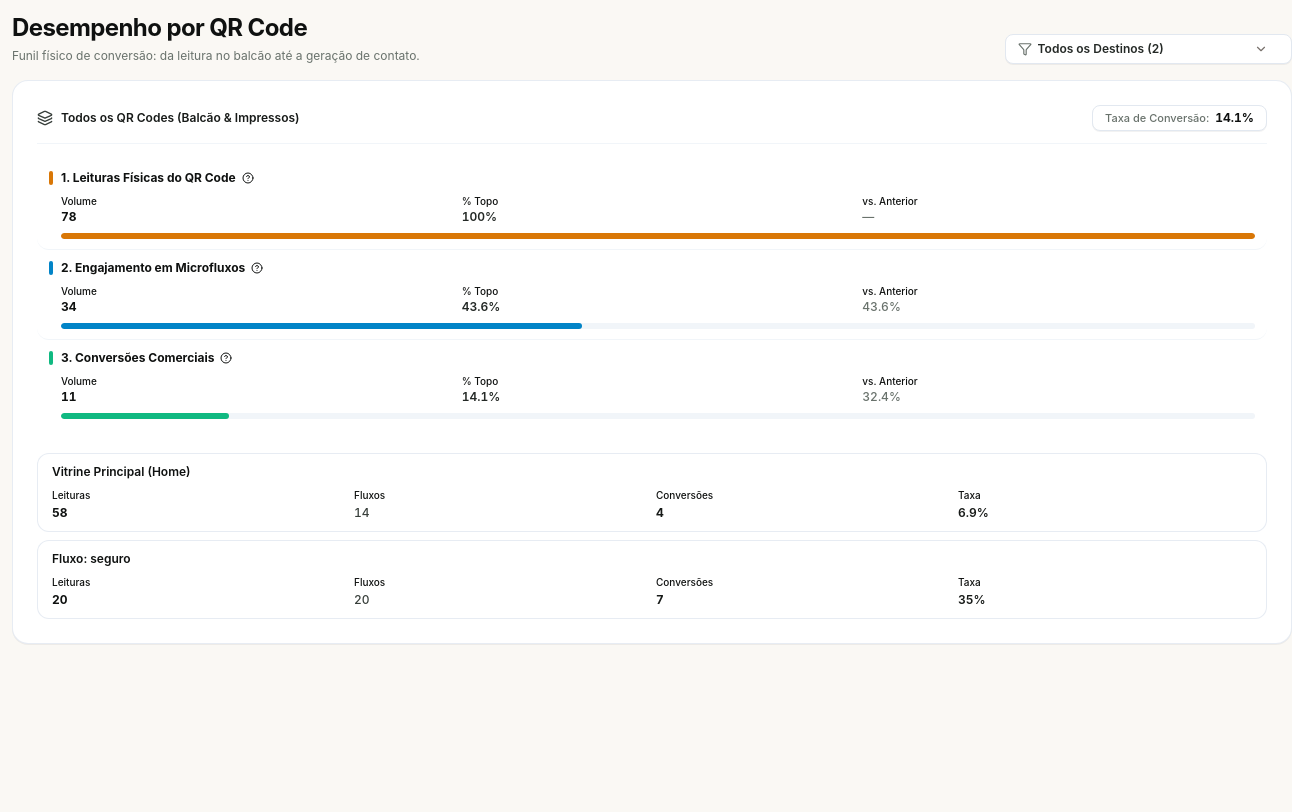
Test: FunilDesempenhoQrCodes › permite filtrar por destino específico e atualizar a visualização
This screenshot has width=1292, height=812.
Select "Fluxo: seguro (20 visitas)" in the dropdown named "Filtrar destino do QR Code". click: (1158, 49)
box: x1=1038 y1=41 x2=1279 y2=57
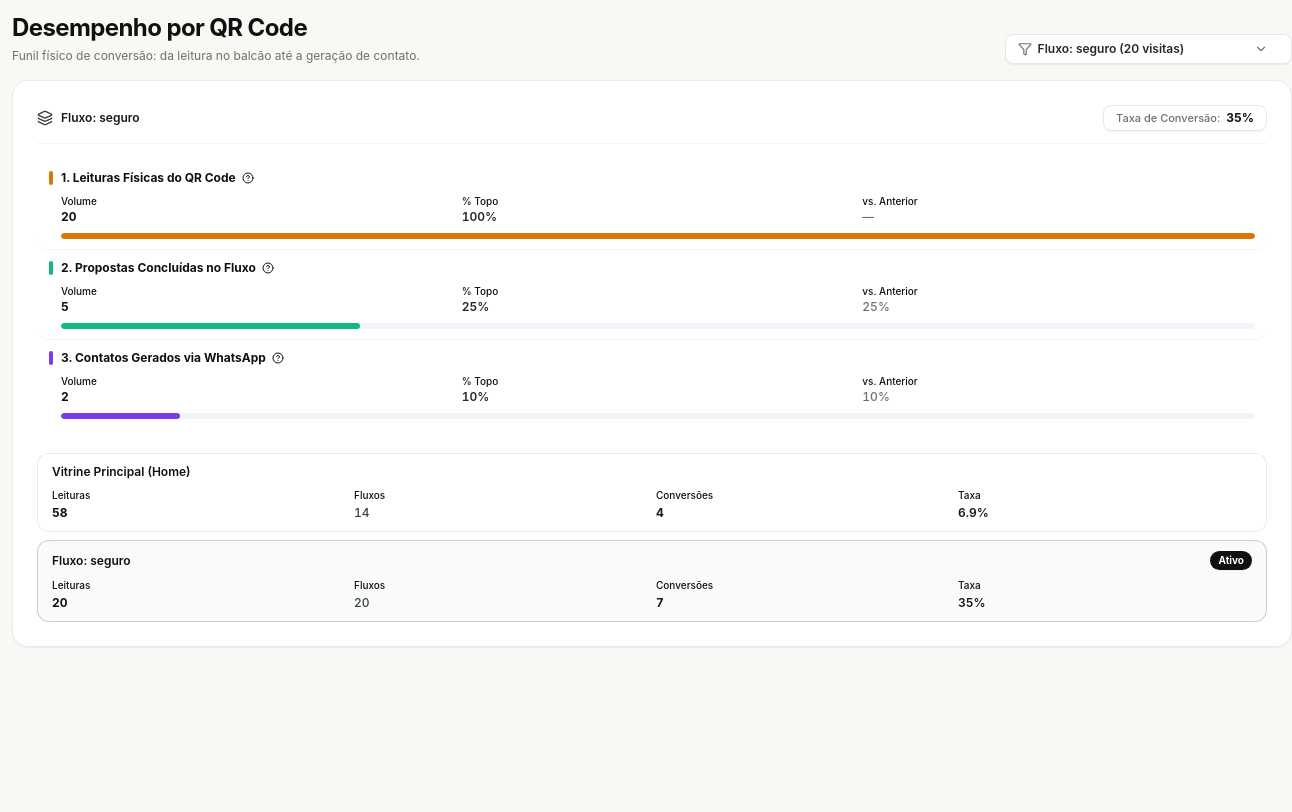
Now the text "2. Propostas Concluídas no Fluxo" is shown, box x1=61 y1=260 x2=256 y2=276
